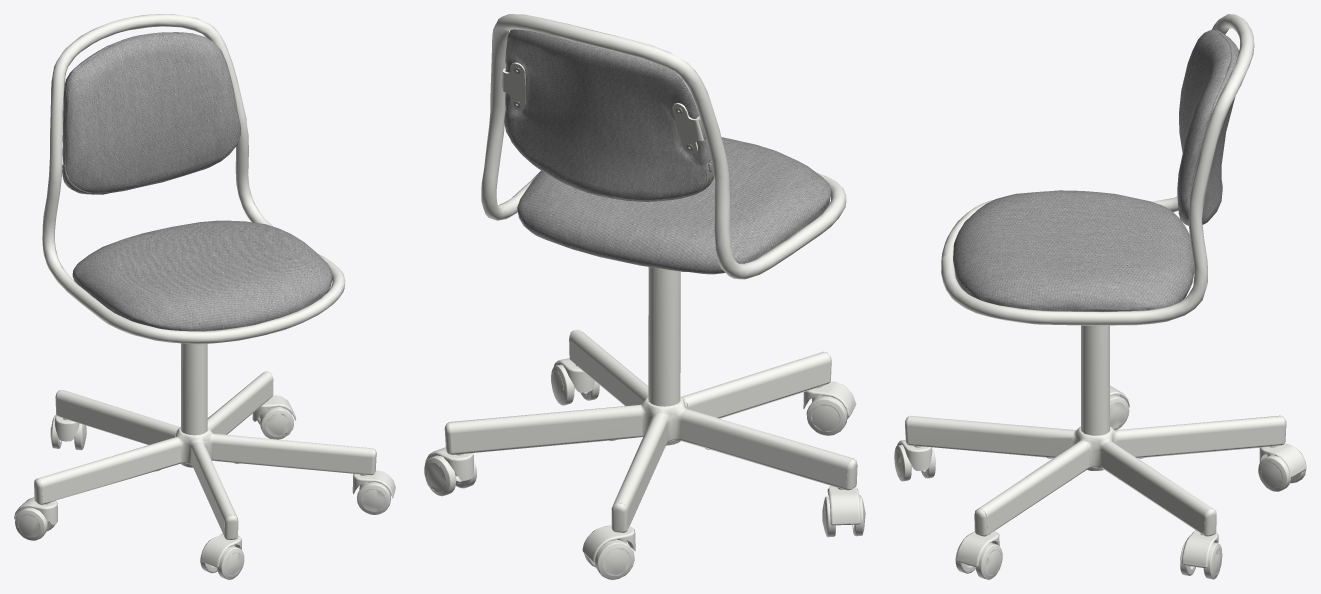
The model's file is orfjall_dzieciece_krzeso_biurowe_10501884.glb.
3 renders of one model, left to right at view 1: azimuth 30°, elevation 25°; view 2: azimuth 150°, elevation 25°; view 3: azimuth 270°, elevation 25°, orthographic. The views are drawn at different scales.
Visible parts, largest first — view 1: orfjall_dzieciece_krzeso_biurowe_10501884; view 2: orfjall_dzieciece_krzeso_biurowe_10501884; view 3: orfjall_dzieciece_krzeso_biurowe_10501884.
Boxes of the visible parts, bbox=[...] form: orfjall_dzieciece_krzeso_biurowe_10501884: bbox=[14, 14, 395, 579]; orfjall_dzieciece_krzeso_biurowe_10501884: bbox=[424, 14, 865, 579]; orfjall_dzieciece_krzeso_biurowe_10501884: bbox=[894, 14, 1306, 579].
Bounding box in the file's own units: 0.5558 × 0.7152 × 0.569.
1 material, 1 textured.
